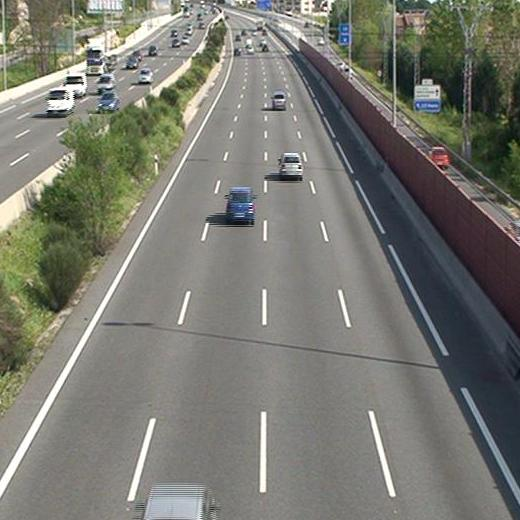car: (225, 187, 257, 222), (279, 152, 302, 179), (271, 92, 287, 110)
